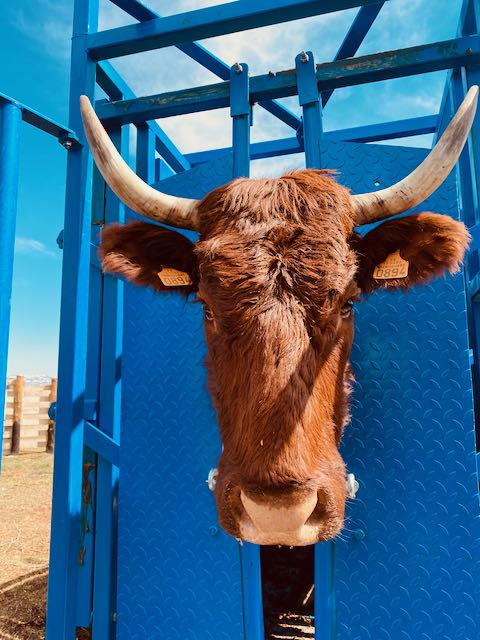muzzles: (205, 472, 355, 556)
